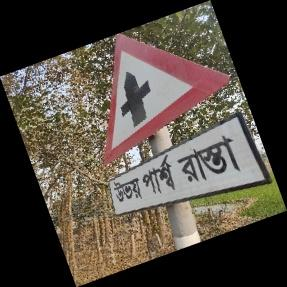Crossroad: (103, 33, 272, 221)
